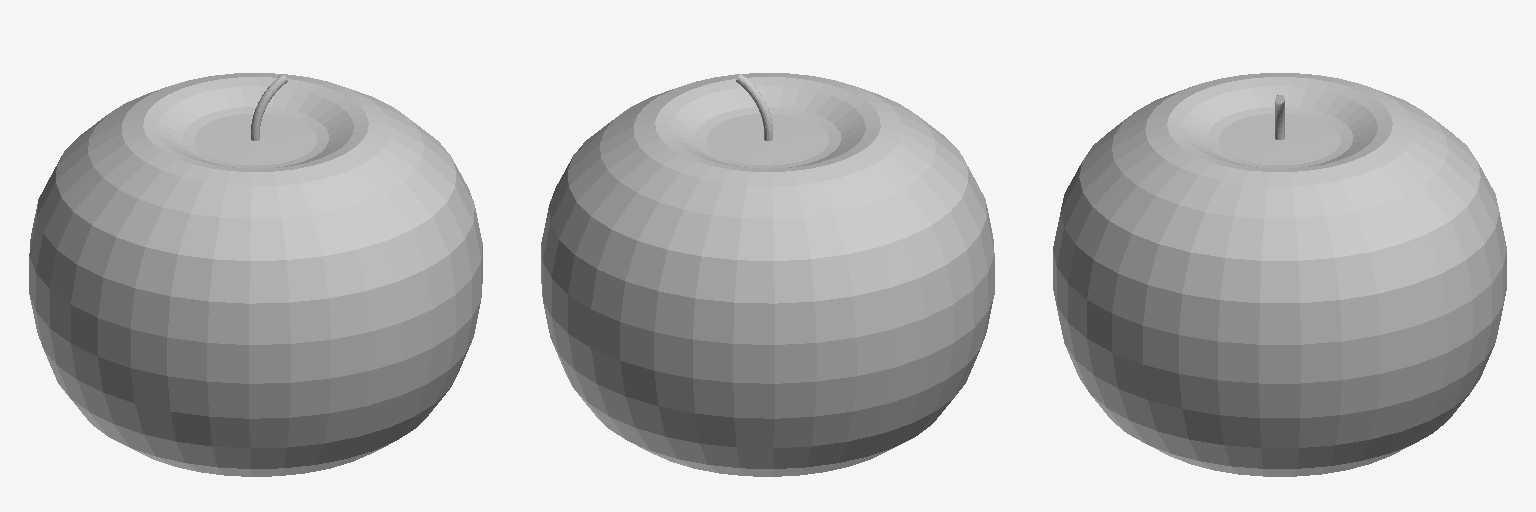
The model's file is Apple.obj.
The picture shows the model from 3 angles: view 1: azimuth 30°, elevation 25°; view 2: azimuth 150°, elevation 25°; view 3: azimuth 270°, elevation 25°; orthographic projection.
Parts seen in each view (by area): view 1: Sphere01, Cylinder01; view 2: Sphere01, Cylinder01; view 3: Sphere01.
Boxes of the visible parts, <box> form: Sphere01: <box>29,73,482,476</box>; Cylinder01: <box>251,74,287,140</box>; Sphere01: <box>541,73,994,476</box>; Cylinder01: <box>736,74,772,140</box>; Sphere01: <box>1053,73,1506,476</box>.
Bounding box in the file's own units: 45.95 × 39.17 × 46.14.